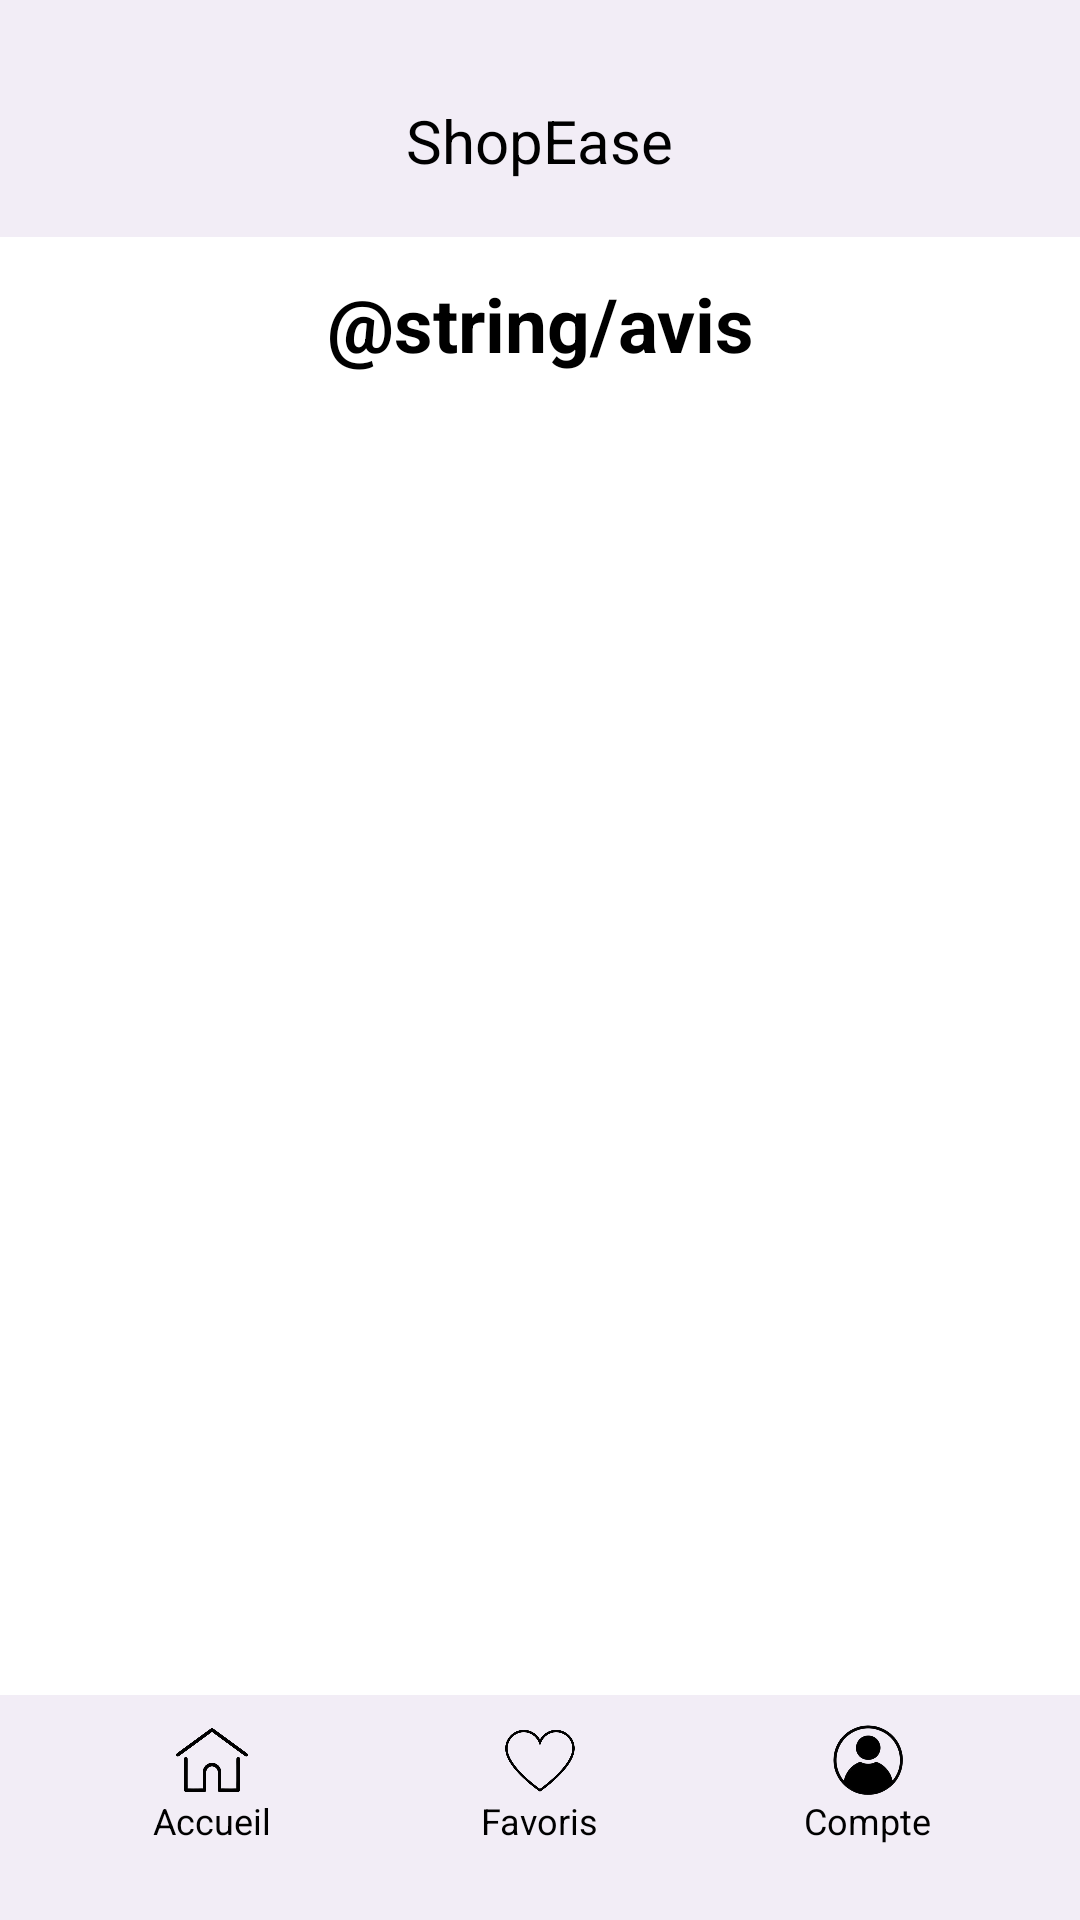

Named icons in this screenshot (1080*1920) and their centers, point (x, y):
heart: point (540, 1761)
